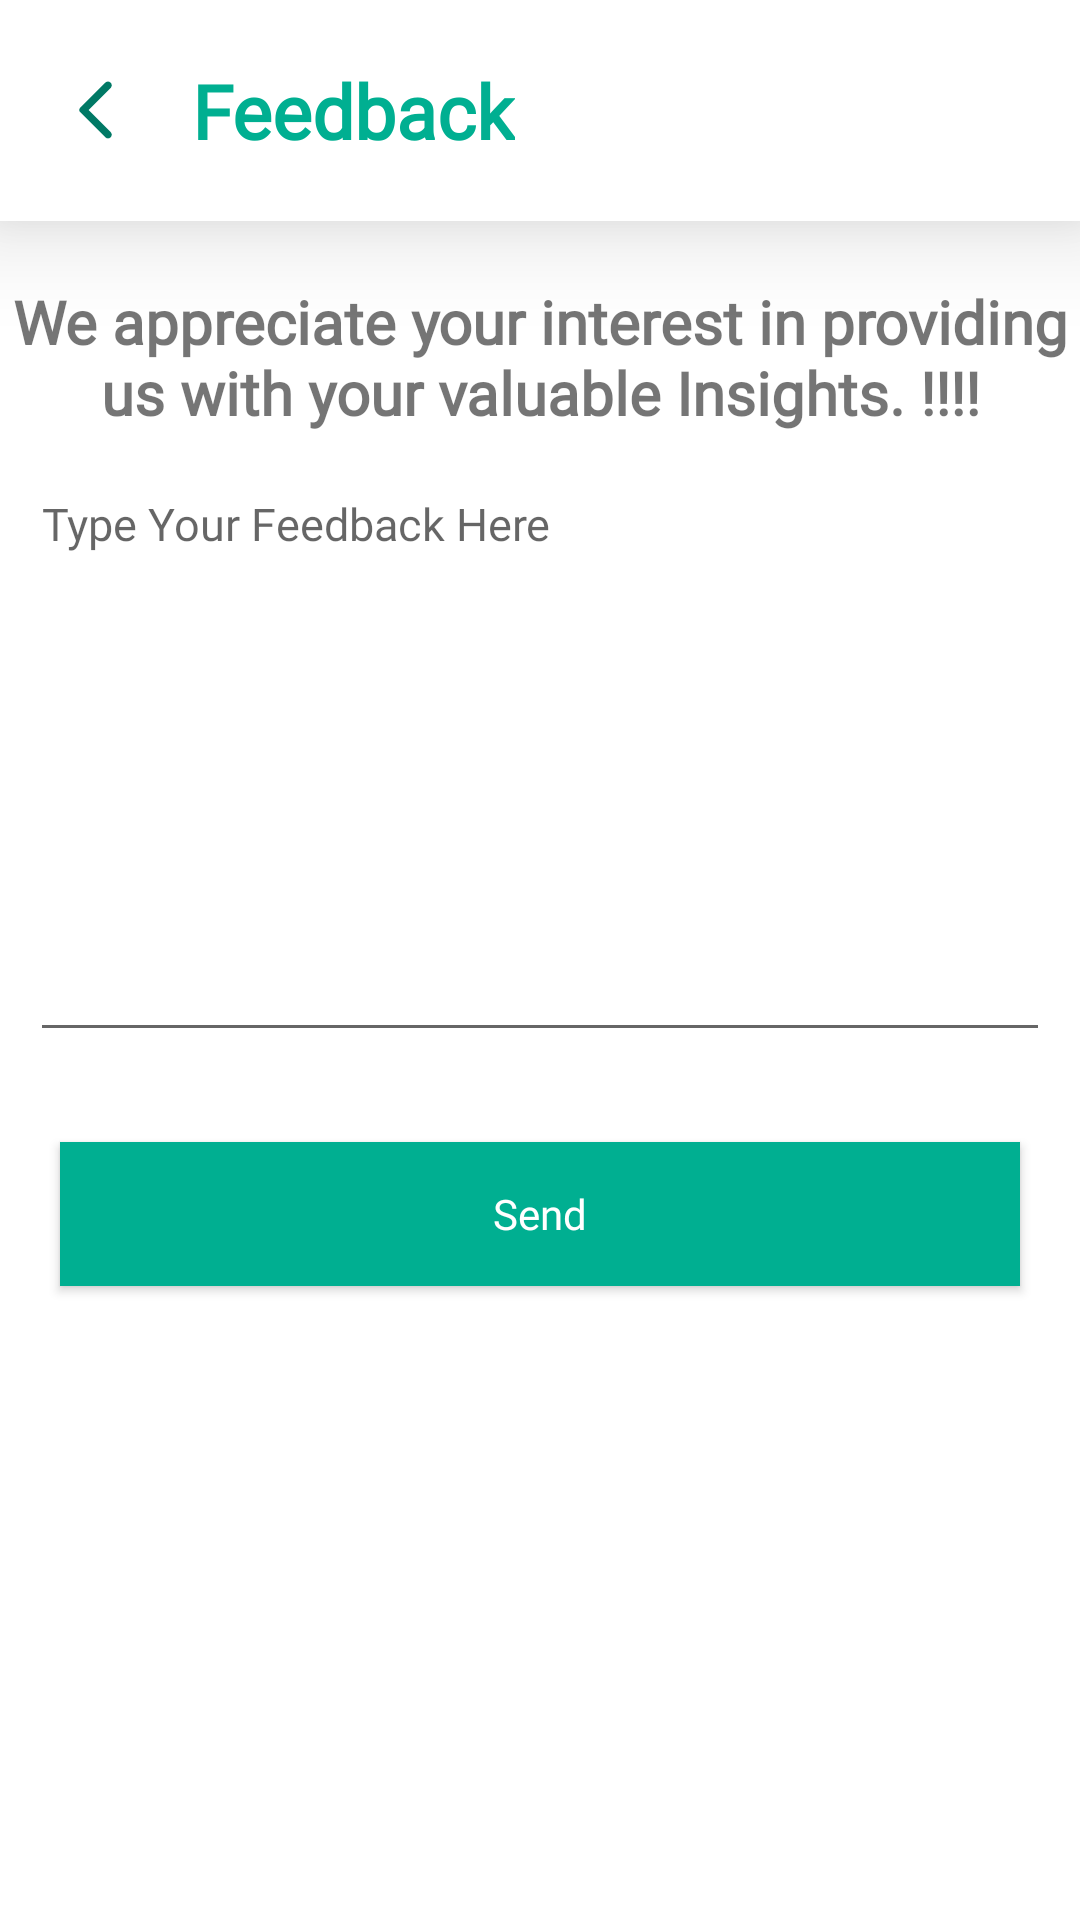

Screen size 1080*1920. Icon name, then its box in pixels as (x1, y1, x2, y2):
back activity: (79, 81, 112, 139)
